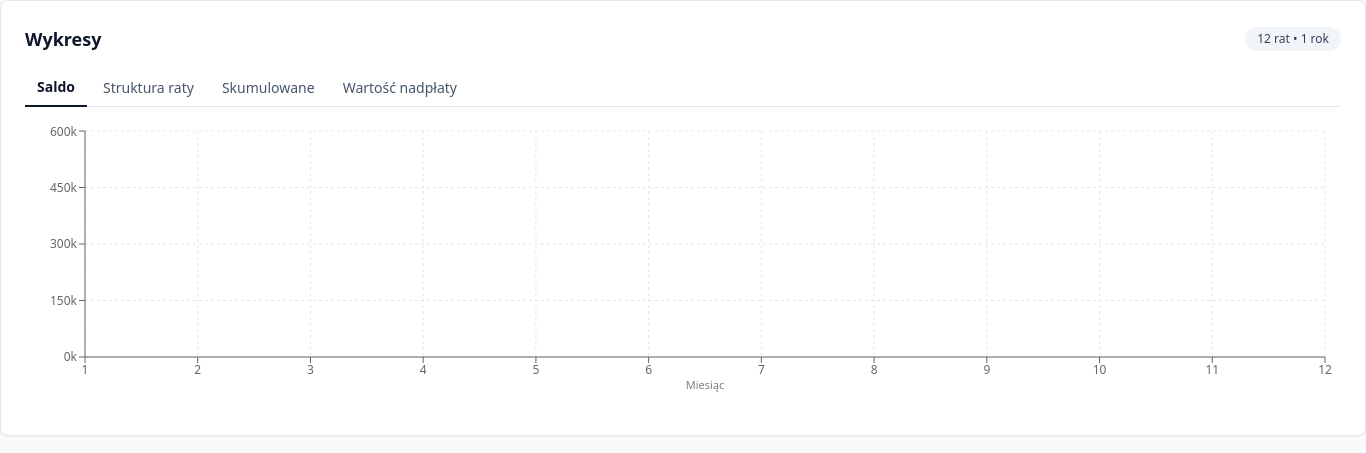
Charts › switches to value chart on tab click
Click the tab "Wartość nadpłaty" at (400, 88), box [331,69,469,106]
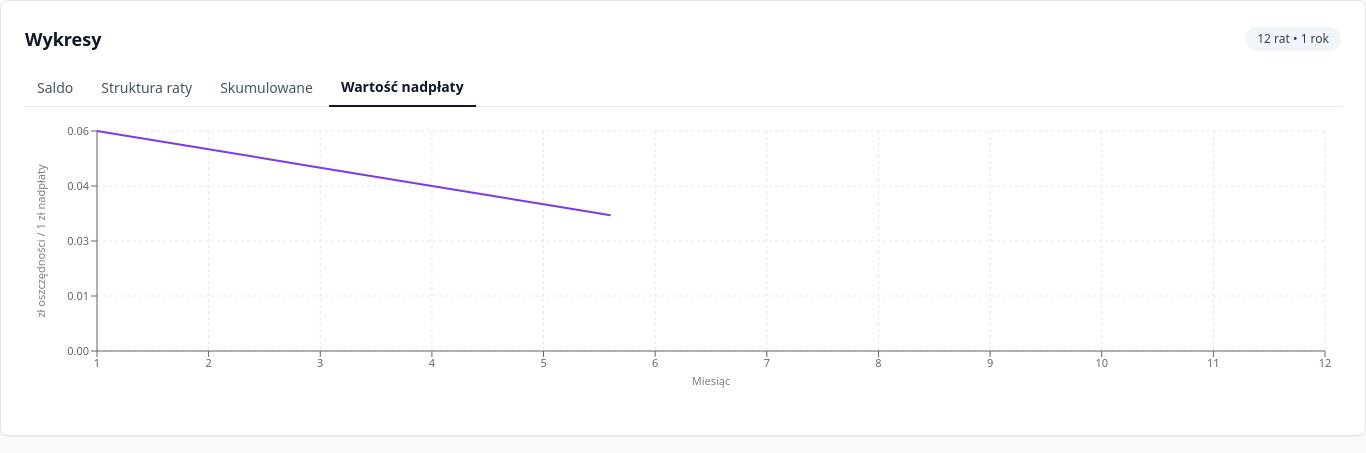
Expected: the element with test id "value-chart" is shown
